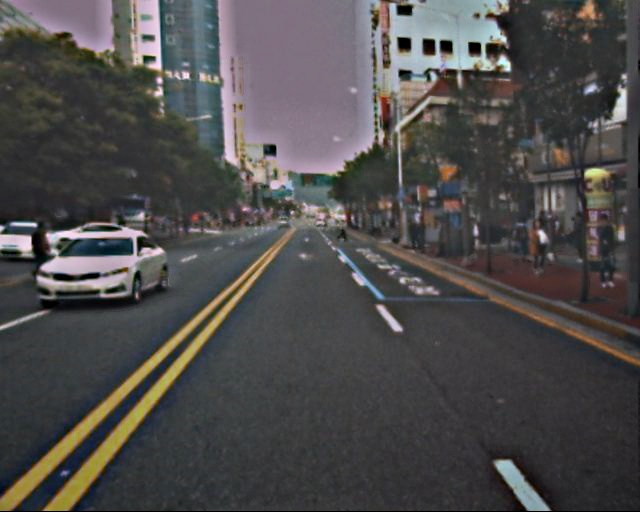person: (586, 212, 619, 293), (29, 218, 68, 277), (526, 220, 549, 277), (567, 212, 590, 268), (429, 214, 450, 264), (513, 217, 531, 262), (464, 219, 482, 263), (406, 212, 423, 253), (547, 214, 566, 240), (336, 213, 348, 242)
